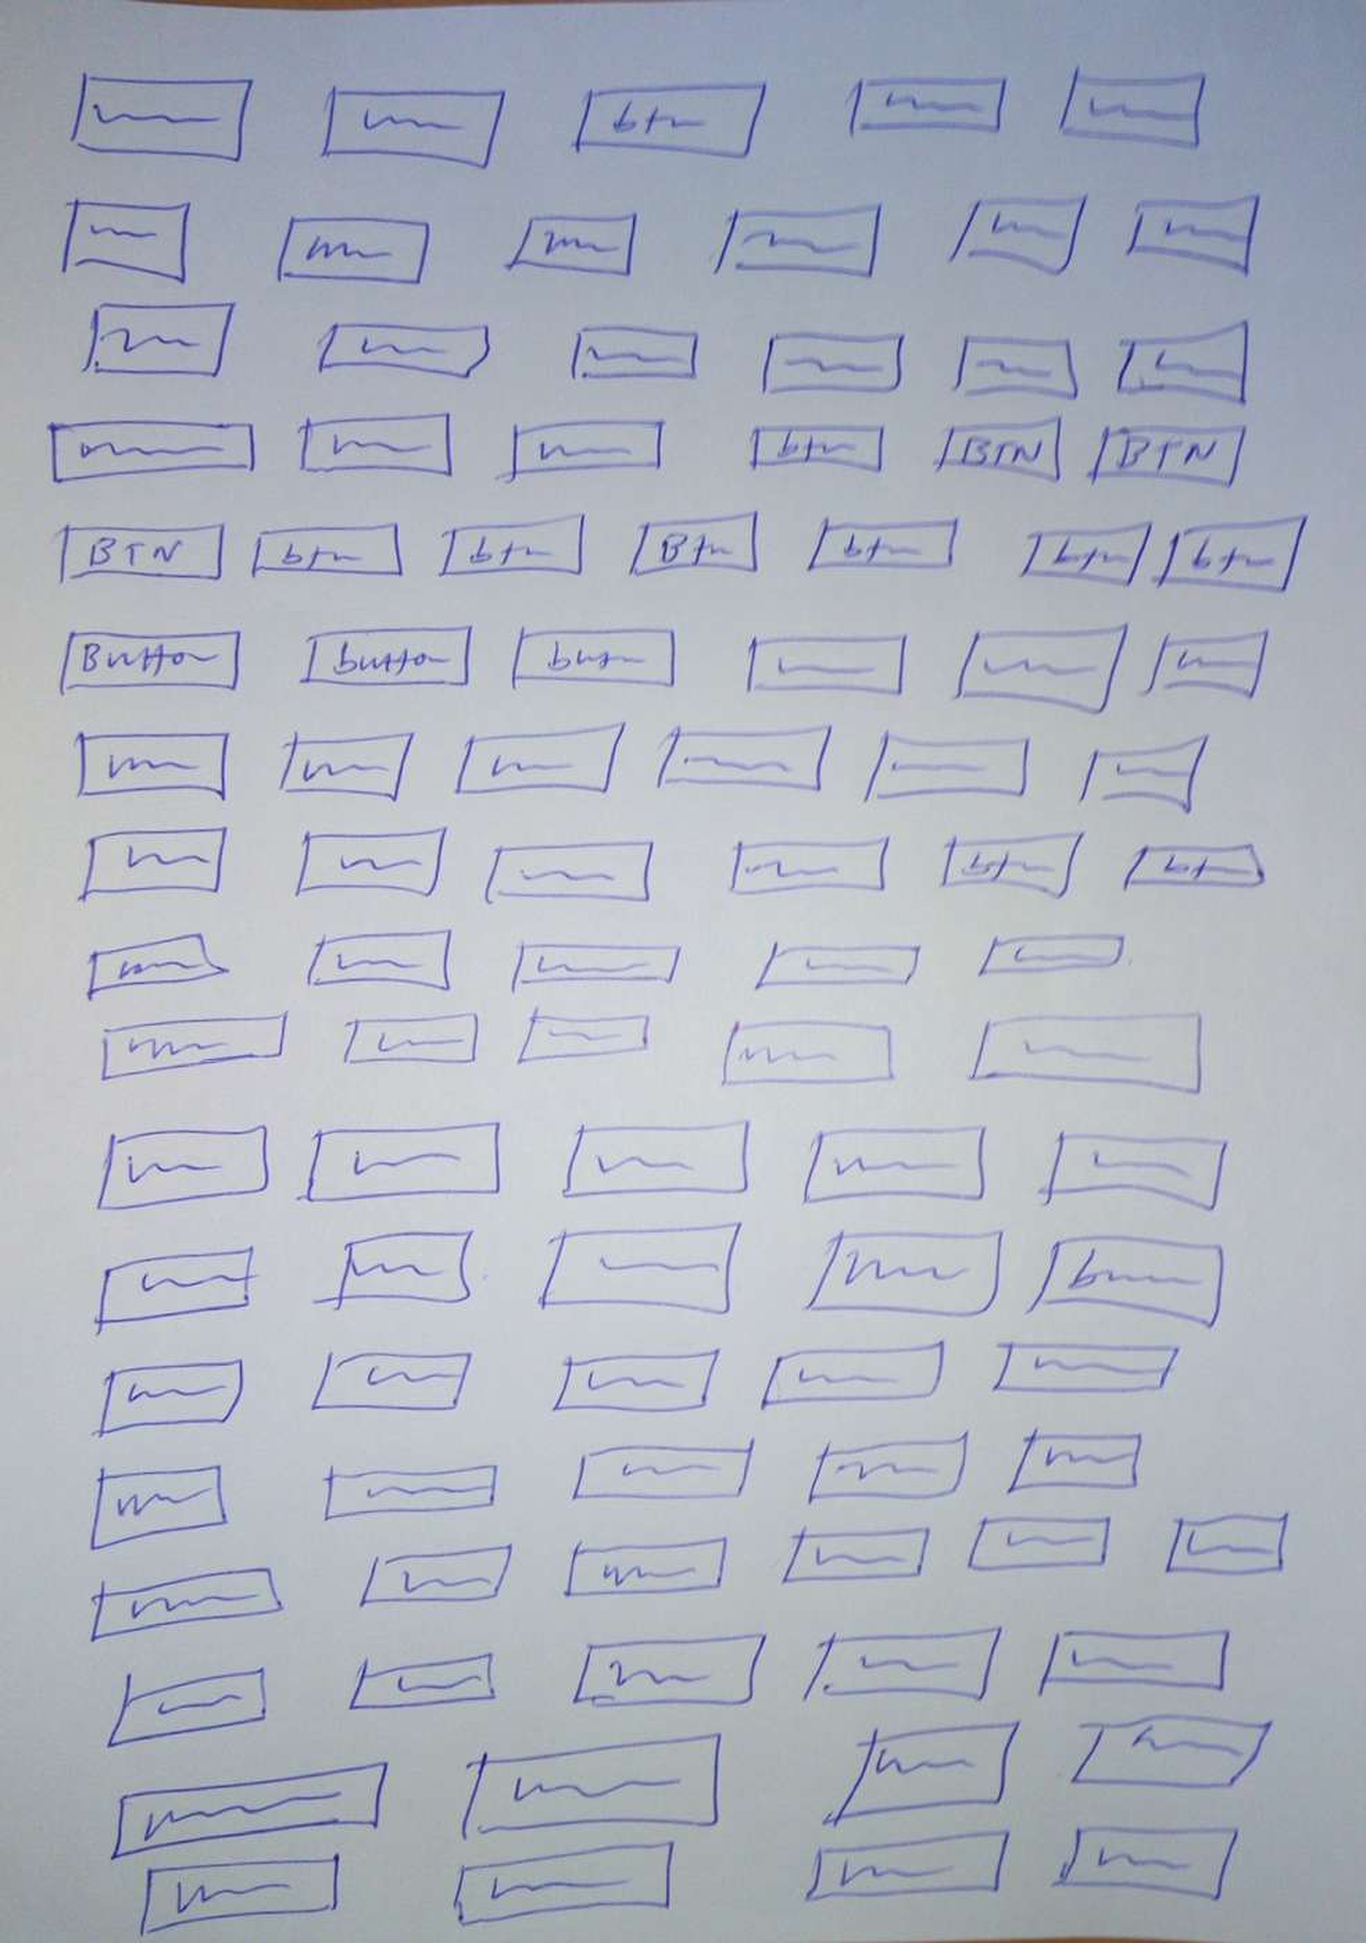Button: (451, 1732, 726, 1847), (109, 1761, 392, 1865), (1017, 1231, 1229, 1331), (293, 1116, 507, 1209), (62, 66, 256, 164), (566, 75, 776, 164), (1152, 513, 1308, 607), (52, 626, 242, 696), (504, 622, 682, 696), (500, 414, 667, 489), (297, 622, 476, 692), (52, 517, 228, 587), (1082, 421, 1251, 491), (936, 826, 1090, 901), (432, 516, 594, 581), (798, 513, 961, 576), (247, 522, 410, 582), (622, 513, 767, 579), (1017, 522, 1152, 593), (927, 414, 1066, 482), (1116, 836, 1267, 892), (742, 421, 887, 474)
